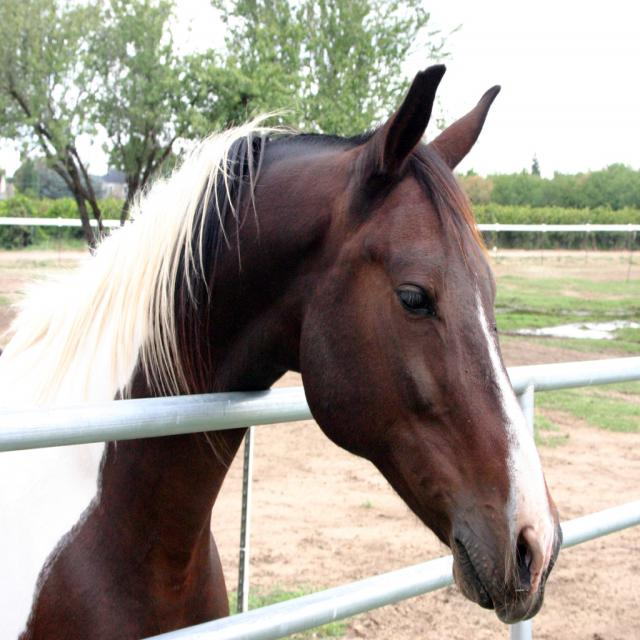Horse: (0, 63, 566, 640)
